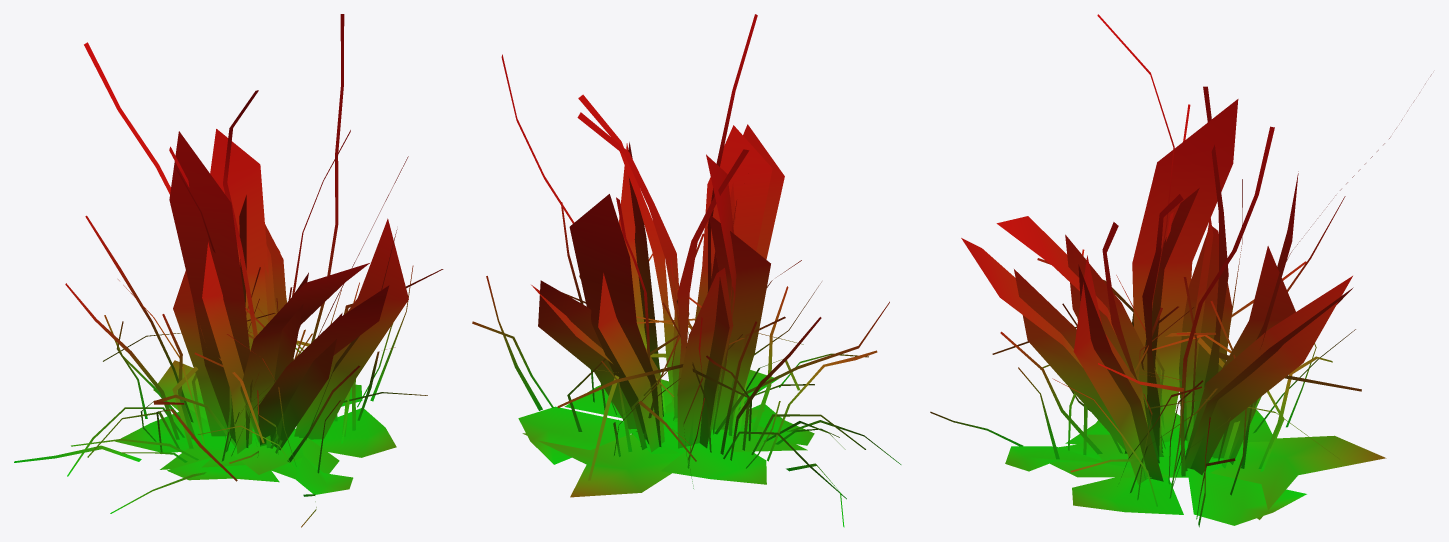
Rendered from Var7_LOD1.fbx.
The picture shows the model from 3 angles, left to right: view 1: azimuth 30°, elevation 25°; view 2: azimuth 150°, elevation 25°; view 3: azimuth 270°, elevation 25°; orthographic projection. The views are drawn at different scales.
Parts seen in each view (by area): view 1: _4b66_Var7_LOD1; view 2: _4b66_Var7_LOD1; view 3: _4b66_Var7_LOD1.
Boxes of the visible parts, x1,y1,x2,y2 form: _4b66_Var7_LOD1: (14, 14, 443, 527); _4b66_Var7_LOD1: (472, 14, 901, 527); _4b66_Var7_LOD1: (930, 14, 1431, 527).
Size of the model in its own units: 23.36 by 23.53 by 24.7.
